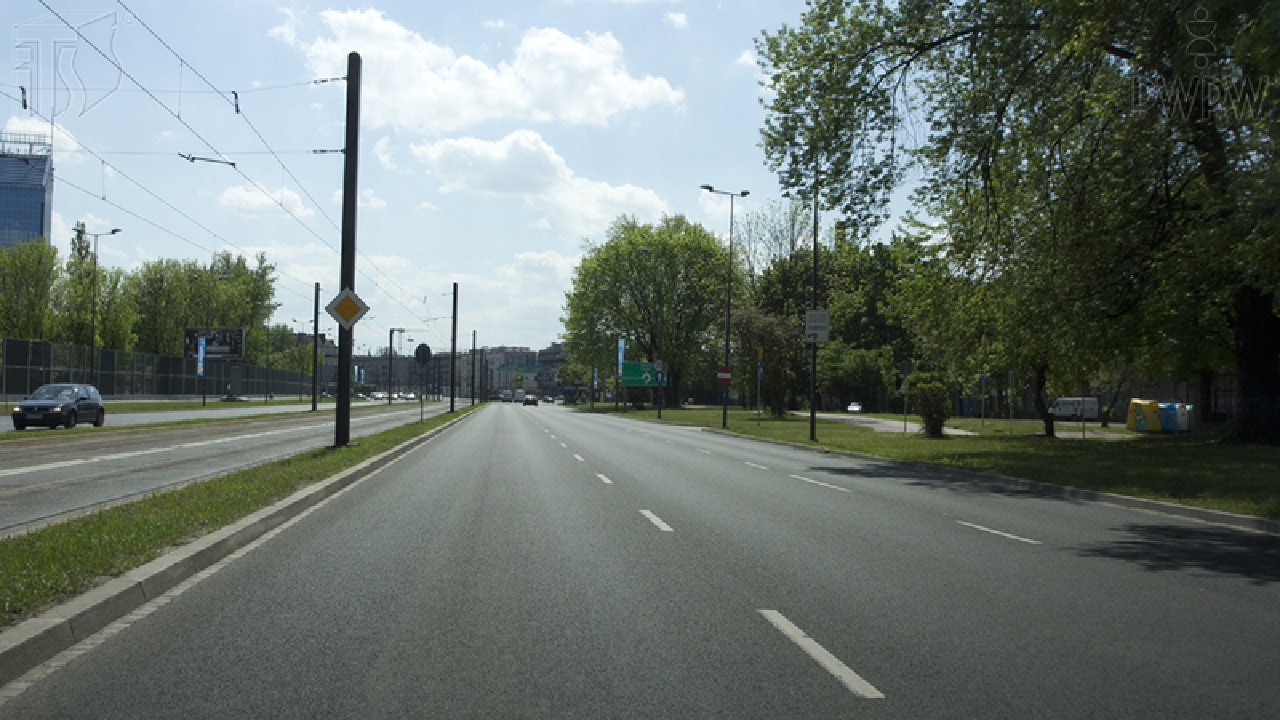B2: (717, 367, 732, 384)
D1: (325, 287, 370, 330)
